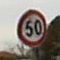limite 50: (17, 8, 48, 45)
